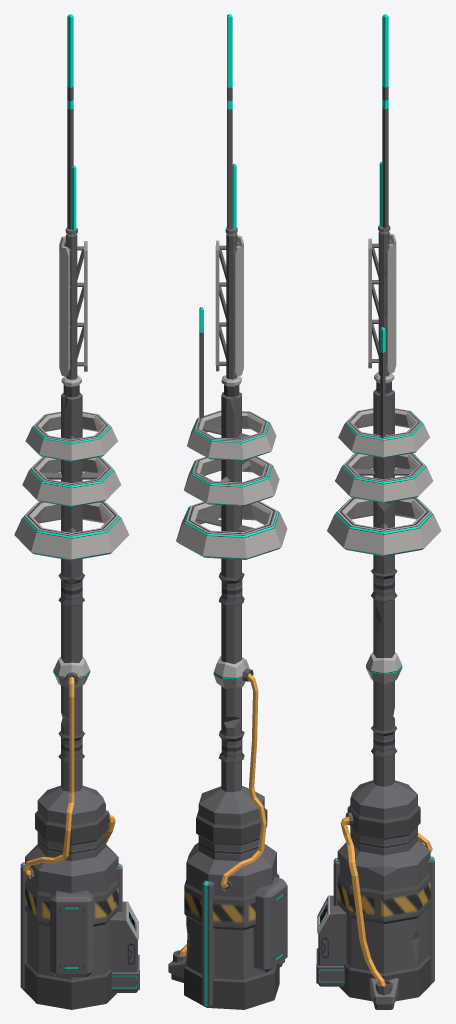
File: SM_Prop_Antenna_03.fbx
3 renders of one model, left to right at view 1: azimuth 90°, elevation 25°; view 2: azimuth 150°, elevation 25°; view 3: azimuth 270°, elevation 25°, orthographic.
Parts seen in each view (by area): view 1: SM_Prop_Antenna_03; view 2: SM_Prop_Antenna_03; view 3: SM_Prop_Antenna_03.
Part boxes in pixels (x1,y1,x2,y2): SM_Prop_Antenna_03: [14, 14, 139, 1009]; SM_Prop_Antenna_03: [168, 14, 287, 1009]; SM_Prop_Antenna_03: [316, 14, 441, 1009].
Bounding box in the file's own units: 207 × 1764 × 206.
